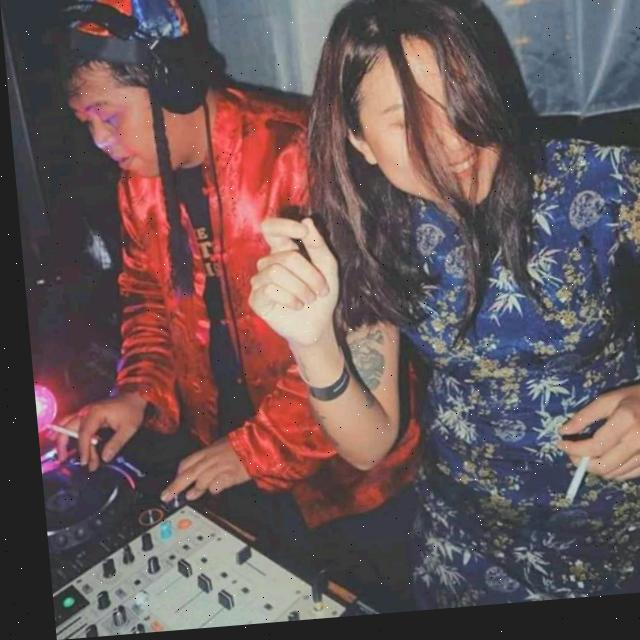cigarette: (36, 420, 91, 450), (551, 465, 584, 515)
